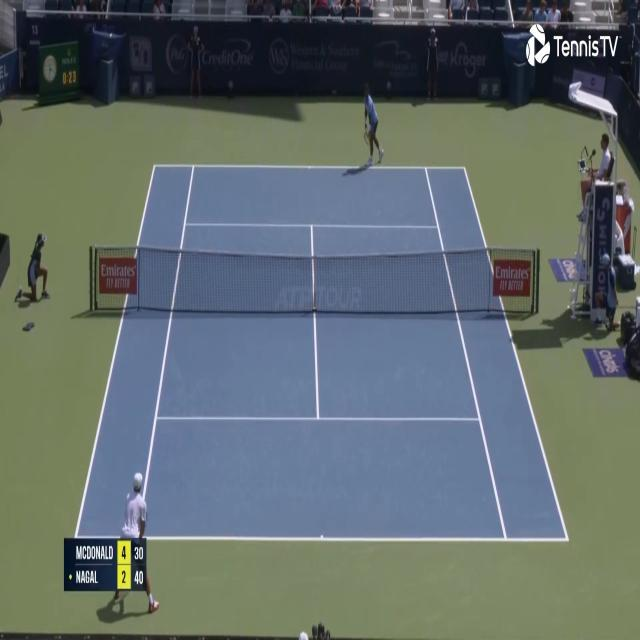tennis-player: (108, 470, 165, 621), (361, 80, 386, 168)
